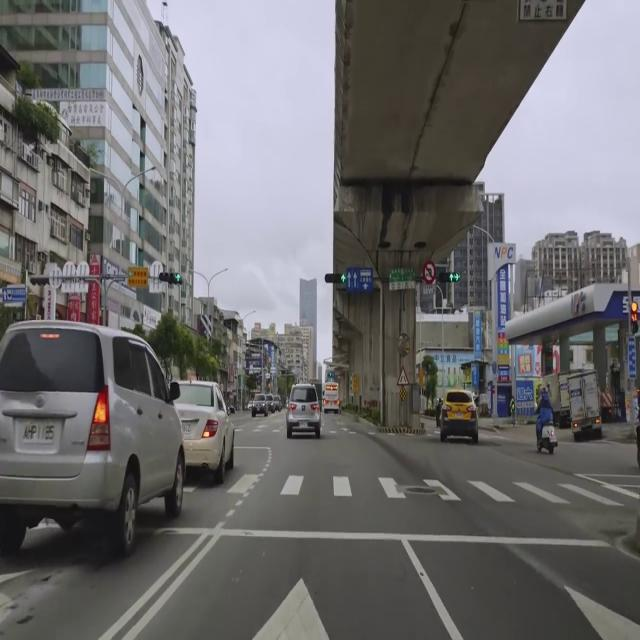green light: (438, 268, 461, 284), (157, 270, 180, 284), (323, 272, 345, 286)
